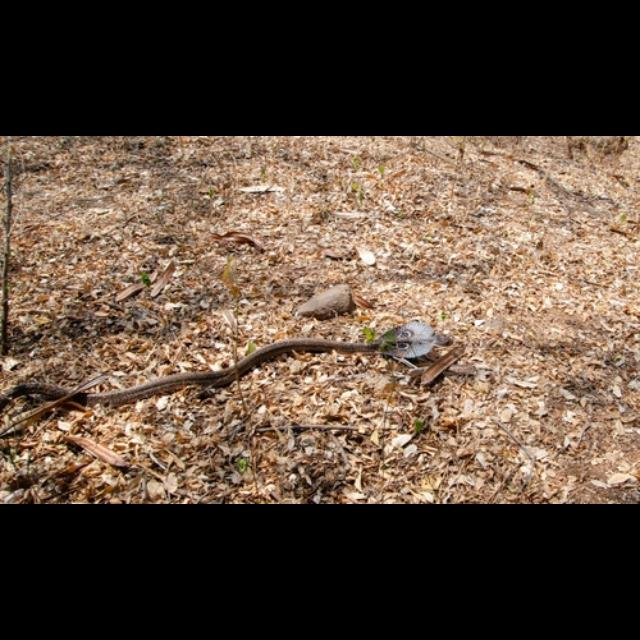snake: (0, 310, 462, 428)
